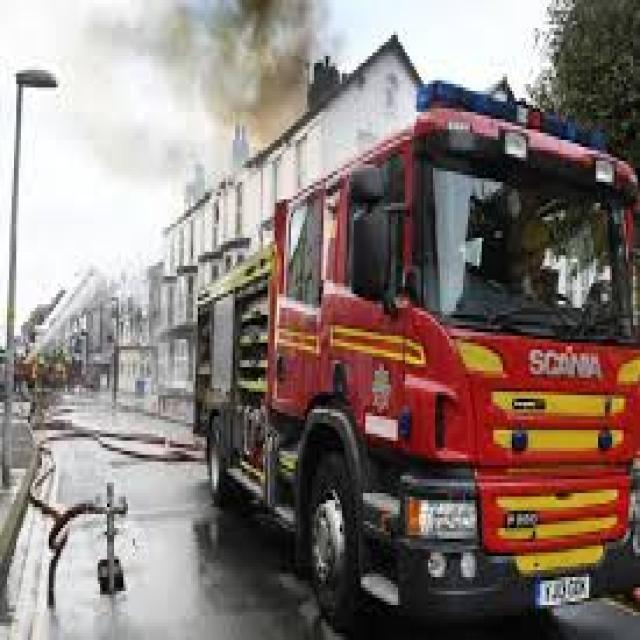Smoke: (60, 0, 346, 192)
